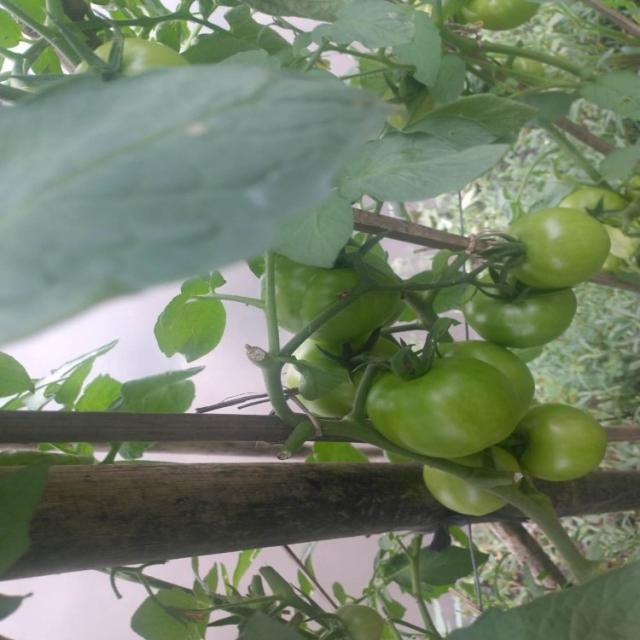tomato: (354, 348, 517, 471), (264, 244, 399, 345), (500, 198, 625, 295), (464, 272, 575, 357), (511, 397, 609, 481), (281, 345, 364, 428), (424, 452, 512, 526), (64, 36, 184, 87), (320, 599, 386, 640), (456, 1, 550, 28)
